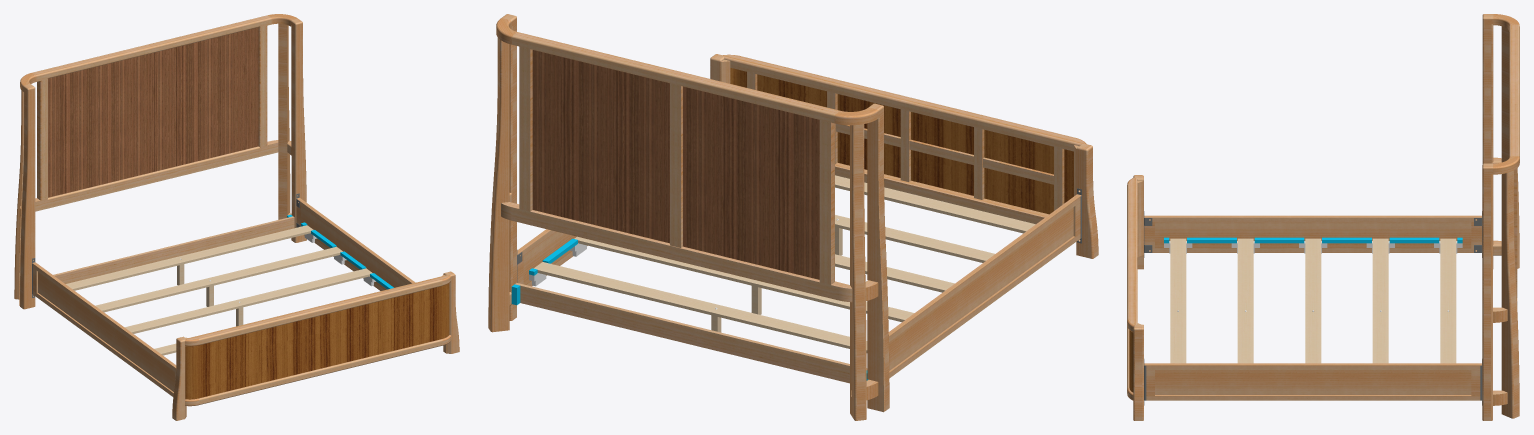
Rendered from IFD6731HBDEK-mwmlk747.glb.
The picture shows the model from 3 angles, left to right: view 1: azimuth 30°, elevation 25°; view 2: azimuth 150°, elevation 25°; view 3: azimuth 270°, elevation 25°; orthographic projection. The views are drawn at different scales.
Visible parts, largest first — view 1: 6731HBDEK-BASTIDOR-1/6731HBDEK-TABLERO CABECERA-2, 6731PLTEK-TABLERO LATERAL PIECERA-2, 6731PLTEK-TABLERO LATERAL PIECERA-1, IUP6731-HBDEK LATERAL DE CABECERA-4/IUP6731HBDEK-PATA FRONTA, IUP6731HBDEK-TRAVESAÑO-1, 6731PLTEK-RIELES-1/6731PLTEK-TABLERO PARA RIEL-1, 6731PLTEK-TABLERO CENTRAL PIECERA-2, 6731PLTEK-TABLERO CENTRAL PIECERA-1, 6731HBDEK-BASTIDOR-1/IUP6731HBDEK-ARMADOR INFERIOR CABECERA-, IUP6731PLTEK1-ARMADOR FRONTAL PIECERA-1, IUP6731-HBDEK LATERAL DE CABECERA-1/IUP6731HBDEK-PATA FRONTA, 6731HBDEK-BASTIDOR-1/IUP6731HBDEK-ARMADOR SUPERIOR CABECERA- (+13 smaller); view 2: 6731HBDEK-BASTIDOR-1/6731HBDEK-TABLERO CABECERA-2, IUP6731HBDEK-TRAVESAÑO-1, 6731HBDEK-BASTIDOR-1/IUP6731HBDEK-ARMADOR INFERIOR CABECERA-, IUP6731-HBDEK LATERAL DE CABECERA-4/IUP6731HBDEK-PATA FRONTA, 6731PLTEK-RIELES-1/6731PLTEK-TABLERO PARA RIEL-1, IUP6731PLTEK1-ARMADOR FRONTAL PIECERA-1, IUP6731-HBDEK LATERAL DE CABECERA-1/IUP6731HBDEK-PATA CENTRA, 6731HBDEK-BASTIDOR-1/IUP6731HBDEK-ARMADOR SUPERIOR CABECERA-, 6731PLTEK-TABLERO LATERAL PIECERA-2, IUP6731-HBDEK LATERAL DE CABECERA-4/IUP6731HBDEK-PATA CENTRA, 6731PLTEK-TABLA TARIMA-1, 6731PLTEK-TABLERO CENTRAL PIECERA-1 (+20 smaller); view 3: 6731PLTEK-RIELES-2/6731PLTEK-TABLERO PARA RIEL-1, 6731PLTEK-RIELES-1/6731PLTEK-TABLERO PARA RIEL-1, 6731PLTEK-RIELES-2/67311RRLSEK-BOQUILLA SUPERIOR E INFERIOR- (×2), 6731PLTEK-RIELES-1/67311RRLSEK-BOQUILLA SUPERIOR E INFERIOR- (×2), IUP6731-HBDEK LATERAL DE CABECERA-1/IUP6731HBDEK-PATA CENTRA, IUP6731-HBDEK LATERAL DE CABECERA-1/IUP6731HBDEK-PATA FRONTA, 6731PLTEK-TABLA TARIMA-1, 6731PLTEK-TABLA TARIMA-4, 6731PLTEK-TABLA TARIMA-3, 6731PLTEK-TABLA TARIMA-2, 6731PLTEK-TABLA TARIMA-5, IUP6731-HBDEK LATERAL DE CABECERA-4/IUP6731HBDEK-PATA FRONTA (+6 smaller).
Part boxes in pixels (x1,y1,x2,y2): 6731HBDEK-BASTIDOR-1/6731HBDEK-TABLERO CABECERA-2: (48,27,258,197); 6731PLTEK-TABLERO LATERAL PIECERA-2: (185,329,266,399); 6731PLTEK-TABLERO LATERAL PIECERA-1: (373,283,449,355); IUP6731-HBDEK LATERAL DE CABECERA-4/IUP6731HBDEK-PATA FRONTA: (19,84,35,309); IUP6731HBDEK-TRAVESAÑO-1: (53,216,294,283); 6731PLTEK-RIELES-1/6731PLTEK-TABLERO PARA RIEL-1: (38,272,174,391); 6731PLTEK-TABLERO CENTRAL PIECERA-2: (320,303,373,368); 6731PLTEK-TABLERO CENTRAL PIECERA-1: (266,316,319,381); 6731HBDEK-BASTIDOR-1/IUP6731HBDEK-ARMADOR INFERIOR CABECERA-: (35,140,278,211); IUP6731PLTEK1-ARMADOR FRONTAL PIECERA-1: (185,275,451,346); IUP6731-HBDEK LATERAL DE CABECERA-1/IUP6731HBDEK-PATA FRONTA: (291,18,306,242); 6731HBDEK-BASTIDOR-1/IUP6731HBDEK-ARMADOR SUPERIOR CABECERA-: (33,15,271,81); 6731HBDEK-BASTIDOR-1/6731HBDEK-TABLERO CABECERA-2: (532,50,819,279); IUP6731HBDEK-TRAVESAÑO-1: (515,283,867,383); 6731HBDEK-BASTIDOR-1/IUP6731HBDEK-ARMADOR INFERIOR CABECERA-: (501,202,852,302); IUP6731-HBDEK LATERAL DE CABECERA-4/IUP6731HBDEK-PATA FRONTA: (867,103,889,412); 6731PLTEK-RIELES-1/6731PLTEK-TABLERO PARA RIEL-1: (889,207,1073,370); IUP6731PLTEK1-ARMADOR FRONTAL PIECERA-1: (723,54,1086,151); IUP6731-HBDEK LATERAL DE CABECERA-1/IUP6731HBDEK-PATA CENTRA: (488,37,509,332); 6731HBDEK-BASTIDOR-1/IUP6731HBDEK-ARMADOR SUPERIOR CABECERA-: (512,32,839,123); 6731PLTEK-TABLERO LATERAL PIECERA-2: (984,129,1073,214); IUP6731-HBDEK LATERAL DE CABECERA-4/IUP6731HBDEK-PATA CENTRA: (850,124,866,420); 6731PLTEK-TABLA TARIMA-1: (534,262,867,352); 6731PLTEK-TABLERO CENTRAL PIECERA-1: (911,112,973,195); 6731PLTEK-RIELES-2/6731PLTEK-TABLERO PARA RIEL-1: (1155,370,1471,394); 6731PLTEK-RIELES-1/6731PLTEK-TABLERO PARA RIEL-1: (1155,222,1471,248); 6731PLTEK-RIELES-2/67311RRLSEK-BOQUILLA SUPERIOR E INFERIOR- (×2): (1144,363,1481,400); 6731PLTEK-RIELES-1/67311RRLSEK-BOQUILLA SUPERIOR E INFERIOR- (×2): (1144,215,1481,252); IUP6731-HBDEK LATERAL DE CABECERA-1/IUP6731HBDEK-PATA CENTRA: (1501,170,1519,418); IUP6731-HBDEK LATERAL DE CABECERA-1/IUP6731HBDEK-PATA FRONTA: (1482,163,1492,420); 6731PLTEK-TABLA TARIMA-1: (1440,238,1456,363); 6731PLTEK-TABLA TARIMA-4: (1237,238,1253,363); 6731PLTEK-TABLA TARIMA-3: (1305,238,1321,363); 6731PLTEK-TABLA TARIMA-2: (1372,238,1388,363); 6731PLTEK-TABLA TARIMA-5: (1170,238,1186,363); IUP6731-HBDEK LATERAL DE CABECERA-4/IUP6731HBDEK-PATA FRONTA: (1482,14,1493,268).
Bounding box in the file's own units: 2.11 × 1.56 × 2.21.
Materials: 9 (5 with a texture image).
